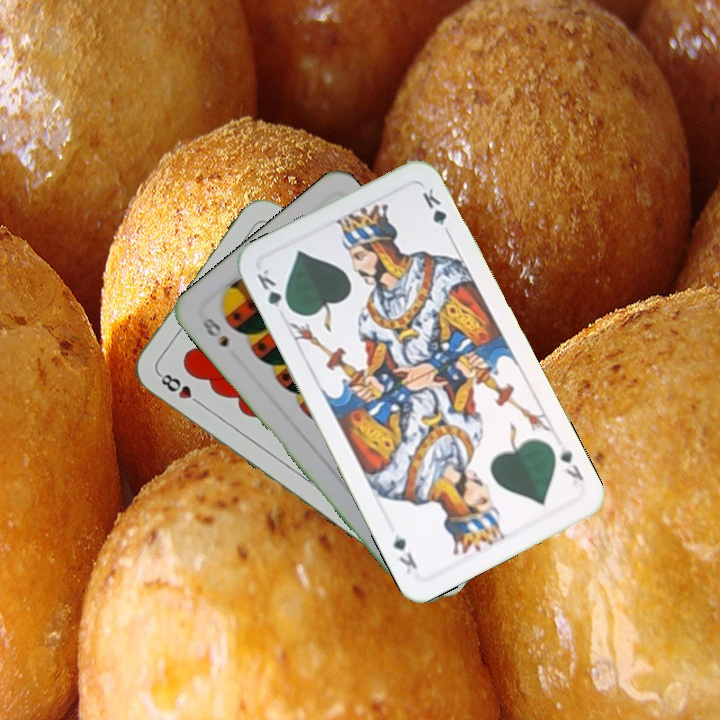GK: (252, 265, 294, 315), (556, 442, 586, 484)
H8: (154, 369, 205, 409)
S8: (197, 313, 232, 350)
